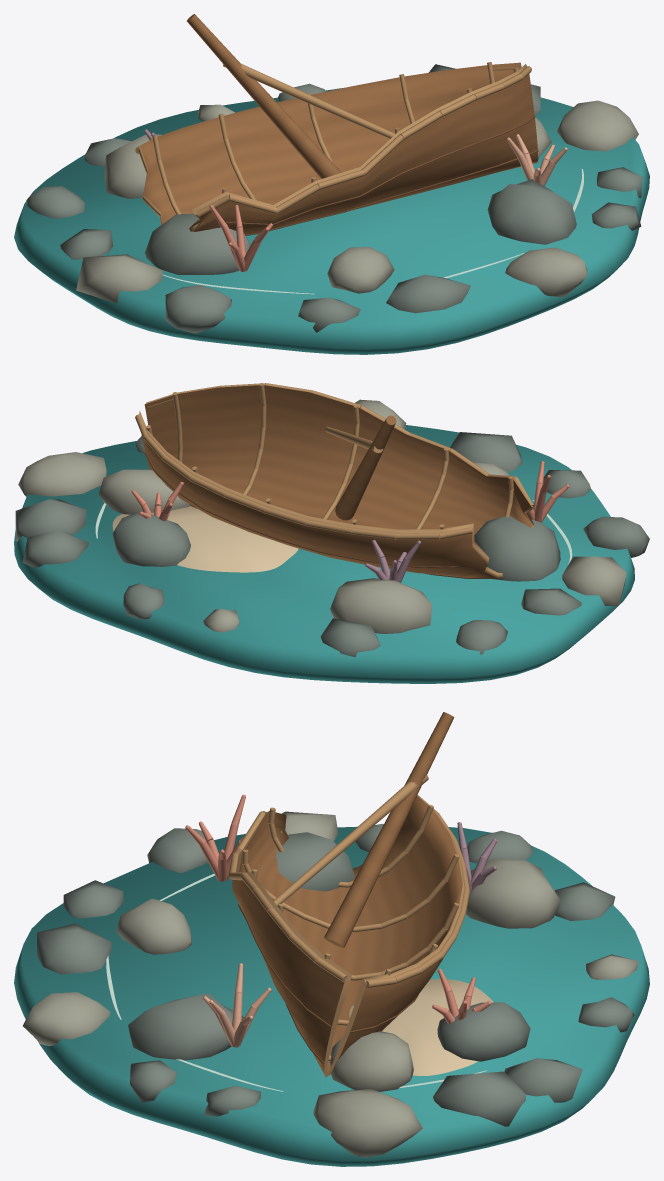
File: shipwreck-reef-v2.fbx
3 renders of one model, top to bottom at view 1: azimuth 30°, elevation 25°; view 2: azimuth 150°, elevation 25°; view 3: azimuth 270°, elevation 25°, orthographic. The views are drawn at different scales.
Parts seen in each view (by area): view 1: Shipwreck | collectible export; view 2: Shipwreck | collectible export; view 3: Shipwreck | collectible export.
Part boxes in pixels (x1,y1,x2,y2): Shipwreck | collectible export: (14,14,649,354); Shipwreck | collectible export: (14,383,649,683); Shipwreck | collectible export: (14,712,649,1166).
Bounding box in the file's own units: 172 × 61.18 × 144.
Materials: 11 (1 with a texture image).
